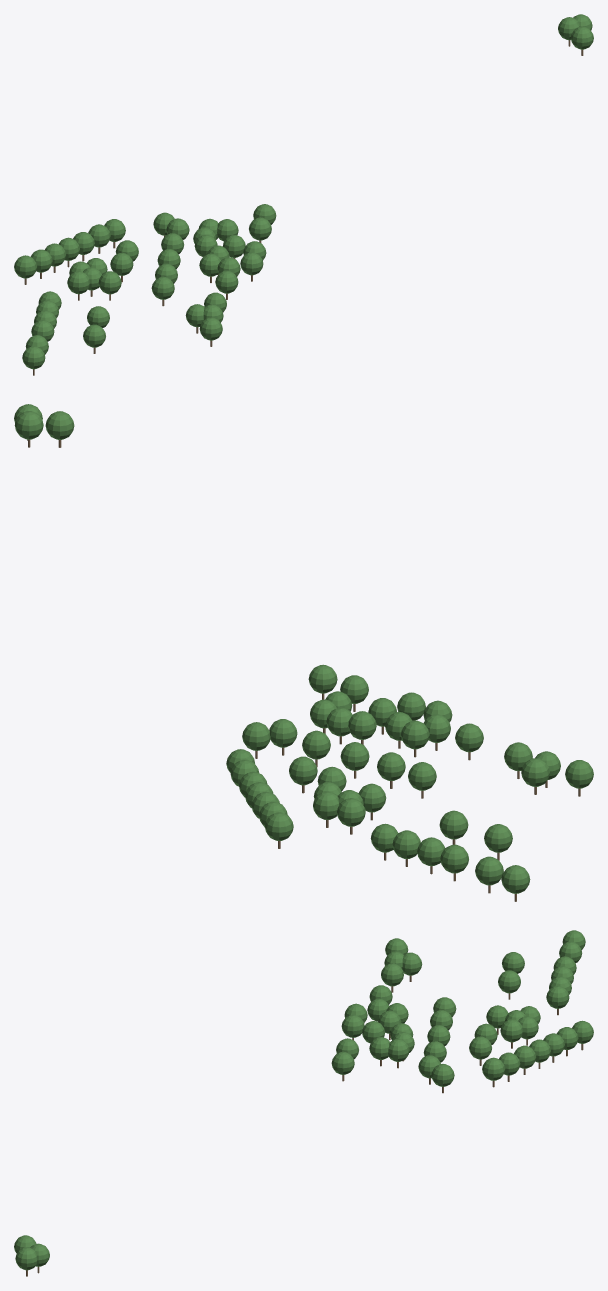
File: trees-663-12978-84bb5694ac97.glb
The picture shows the model from 3 angles, top to bottom: view 1: azimuth 90°, elevation 25°; view 2: azimuth 150°, elevation 25°; view 3: azimuth 270°, elevation 25°; orthographic projection. The views are drawn at different scales.
Size of the model in its own units: 409 by 22.25 by 300.
